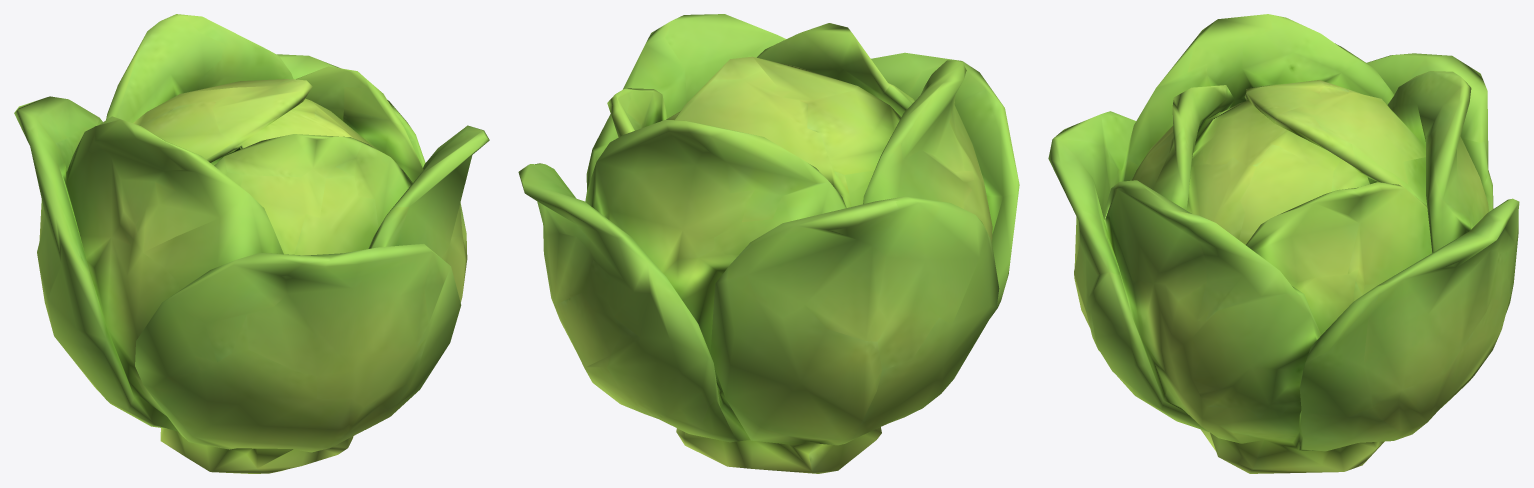
The model's file is cabbage_l3.glb.
3 renders of one model, left to right at view 1: azimuth 30°, elevation 25°; view 2: azimuth 150°, elevation 25°; view 3: azimuth 270°, elevation 25°, orthographic. The views are drawn at different scales.
Visible parts, largest first — view 1: tripo_node_037c8b53-38f4-4d28-b2e4-917cd733979b; view 2: tripo_node_037c8b53-38f4-4d28-b2e4-917cd733979b; view 3: tripo_node_037c8b53-38f4-4d28-b2e4-917cd733979b.
Boxes of the visible parts, left/top/right/bottom form: tripo_node_037c8b53-38f4-4d28-b2e4-917cd733979b: left=14, top=14, right=489, bottom=473; tripo_node_037c8b53-38f4-4d28-b2e4-917cd733979b: left=518, top=14, right=1019, bottom=473; tripo_node_037c8b53-38f4-4d28-b2e4-917cd733979b: left=1048, top=14, right=1519, bottom=473.
Size of the model in its own units: 0.9251 by 0.818 by 0.9745.
1 material, 1 textured.
